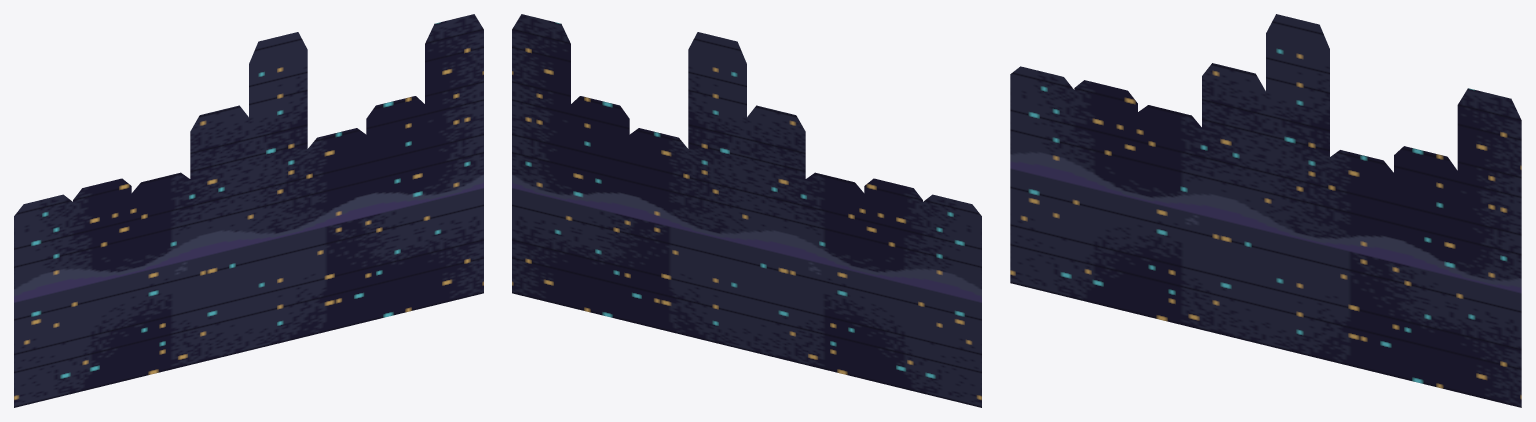
The model's file is cysky.near.glb.
The picture shows the model from 3 angles, left to right: view 1: azimuth 30°, elevation 25°; view 2: azimuth 150°, elevation 25°; view 3: azimuth 330°, elevation 25°; orthographic projection. The views are drawn at different scales.
Visible parts, largest first — view 1: kit_card_skyline; view 2: kit_card_skyline; view 3: kit_card_skyline.
Boxes of the visible parts, x1=… form: kit_card_skyline: x1=14, y1=14, x2=483, y2=407; kit_card_skyline: x1=512, y1=14, x2=981, y2=407; kit_card_skyline: x1=1010, y1=14, x2=1521, y2=407.
Bounding box in the file's own units: 56 × 34.96 × 0.
1 material, 1 textured.
